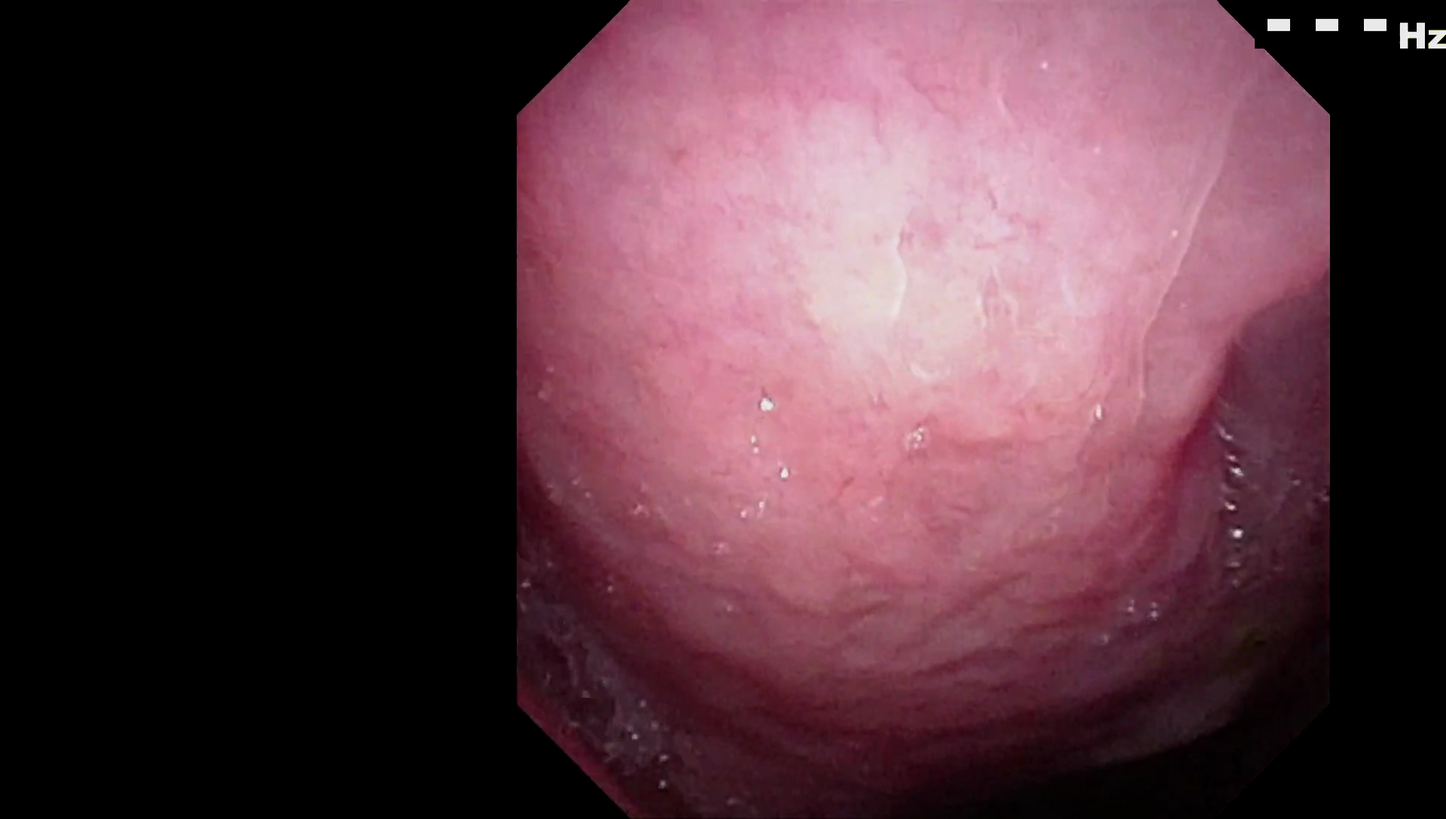close_wall: (605, 60, 1209, 534)
next: (856, 648, 1305, 819)
